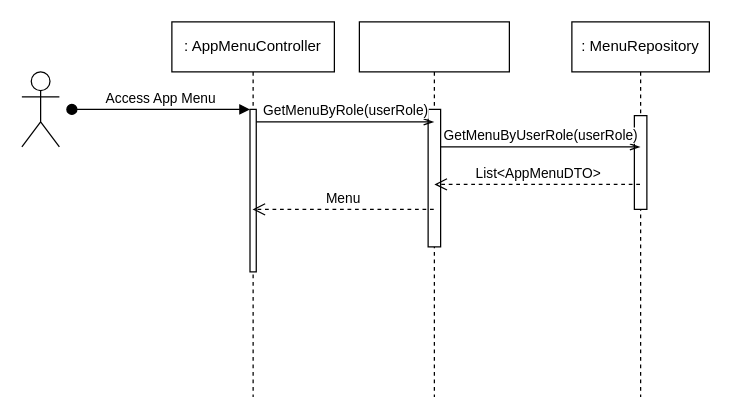
Some shapes in this 731 by 419 pixel diagram are drawn without their labels. The shapes that lost their labels are listed below. From the top down, each one's box as (x1, y1, x2, y2) in pixels, then its label:
(21, 71, 59, 147): user
(358, 21, 509, 397): : MenuService
